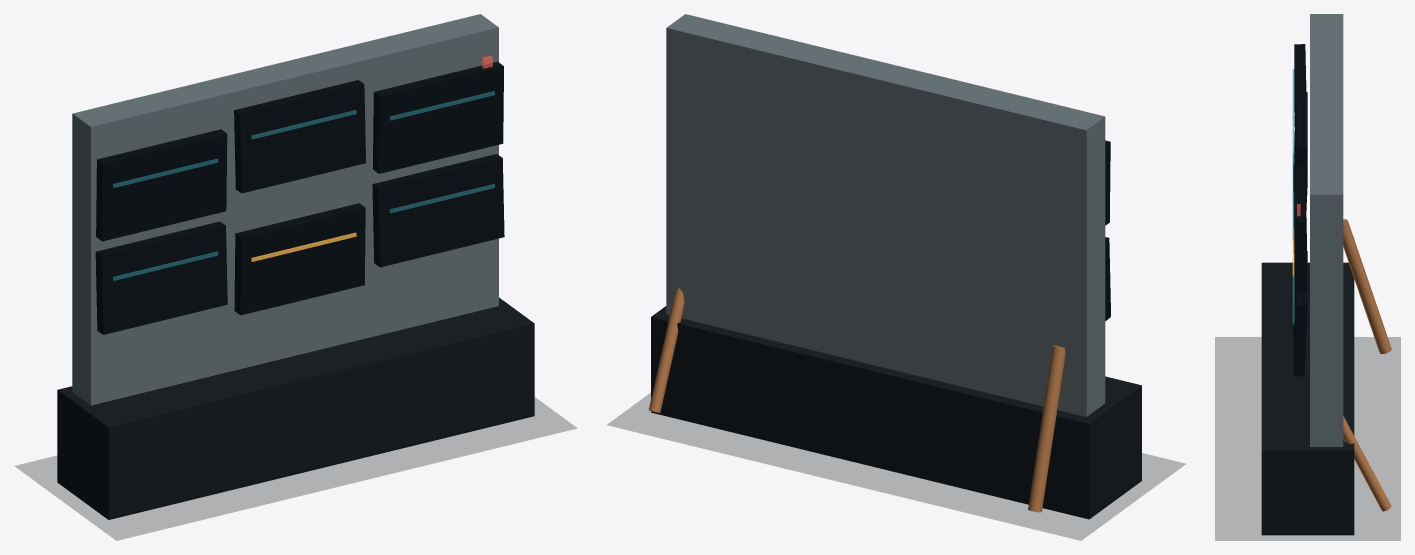
The model's file is hp_room_cyber_monitor_wall.glb.
3 views of the same model, side by side, from view 1: azimuth 30°, elevation 25°; view 2: azimuth 150°, elevation 25°; view 3: azimuth 270°, elevation 25° (orthographic). The views are drawn at different scales.
Visible parts, largest first — view 1: spine, chassis, contact_shadow, screen_1, screen_5, screen_3, screen_4, screen_0, screen_2; view 2: spine, chassis, contact_shadow, cable_drop_a, cable_drop_b; view 3: contact_shadow, chassis, spine, cable_drop_a, screen_2, screen_5, screen_1, cable_drop_b, screen_0.
Part boxes in pixels (x1,y1,x2,y2): spine: (72,14,498,405); chassis: (57,297,534,519); contact_shadow: (15,397,576,540); screen_1: (234,80,365,193); screen_5: (372,154,504,267); screen_3: (95,221,227,334); screen_4: (234,203,365,315); screen_0: (96,129,227,241); screen_2: (373,61,503,173); spine: (666,14,1105,416); chassis: (651,306,1141,519); contact_shadow: (607,393,1185,540); cable_drop_a: (1028,345,1065,512); cable_drop_b: (649,288,684,412); contact_shadow: (1215,337,1400,540); chassis: (1261,262,1354,535); spine: (1310,14,1343,446); cable_drop_a: (1343,219,1391,353); screen_2: (1294,166,1306,292); screen_5: (1293,251,1307,376); screen_1: (1293,91,1307,216); cable_drop_b: (1343,416,1391,511); screen_0: (1294,44,1306,169).
Size of the model in its own units: 2.6 by 2 by 1.
